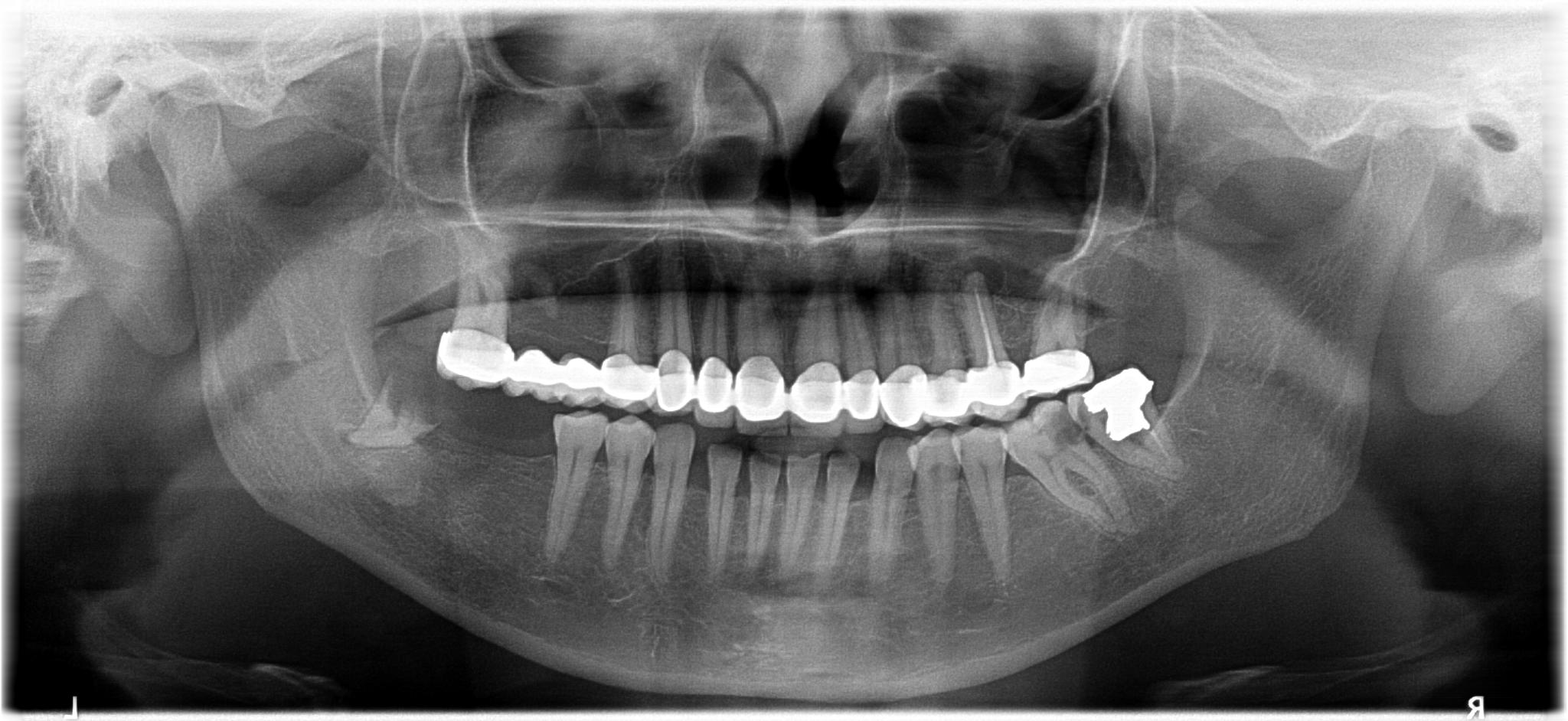Premolars: (511, 236, 1521, 662), (544, 218, 1568, 613), (557, 237, 1568, 632), (591, 200, 1568, 561), (624, 286, 1568, 649), (238, 211, 643, 563)
